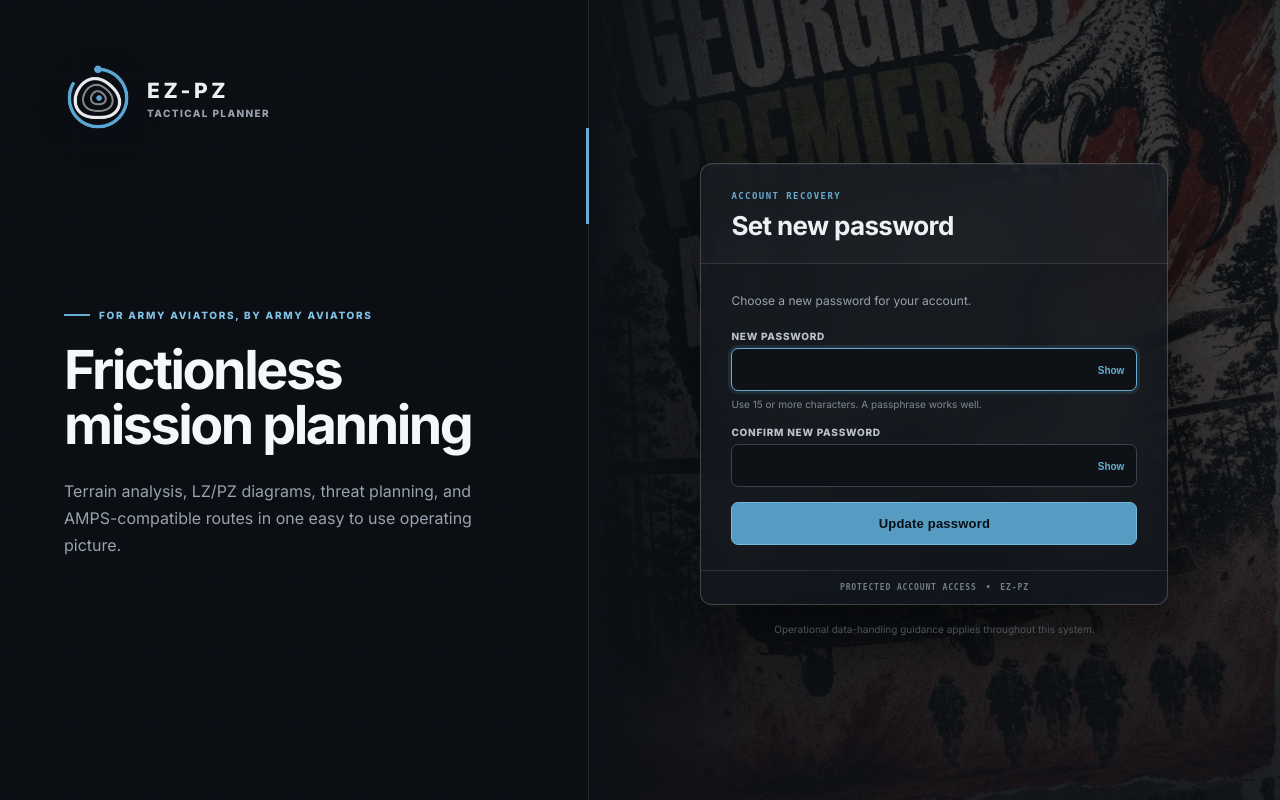
it: AuthScreen › successful password reset clears any existing local session
Type "another-secure-passphrase" into the password field labelled "New password" at [934, 370], box [731,348,1137,391]
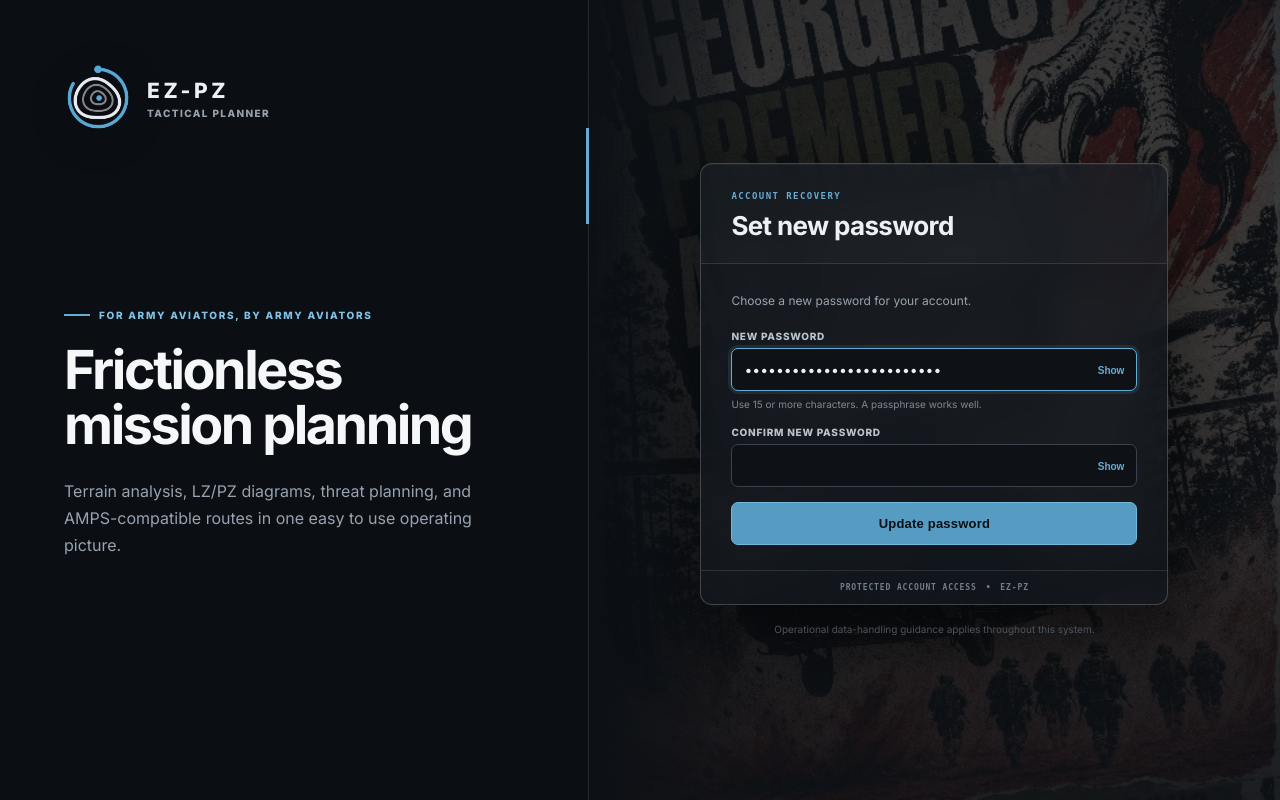
Type "another-secure-passphrase" into the password field labelled "Confirm new password" at [934, 466], box [731,444,1137,487]
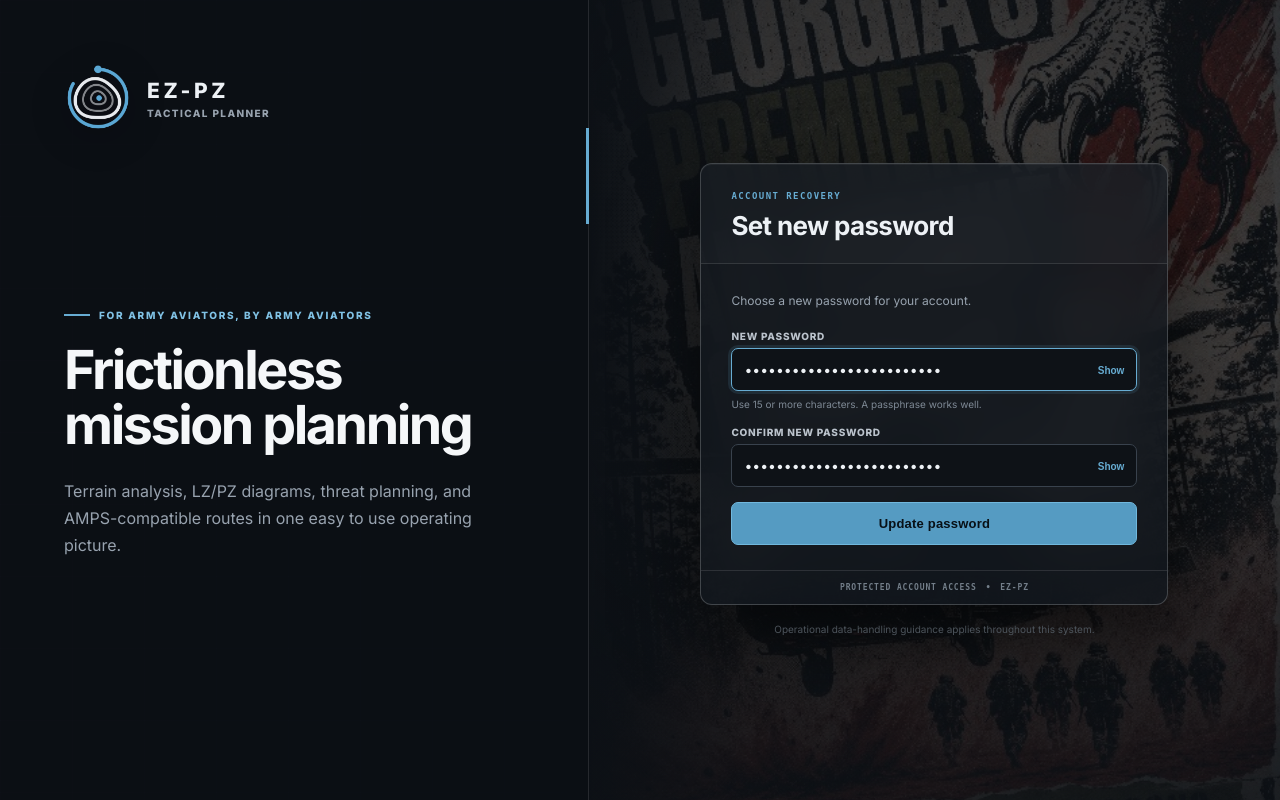
Click the button "Update password" at [934, 524], box [731,502,1137,545]
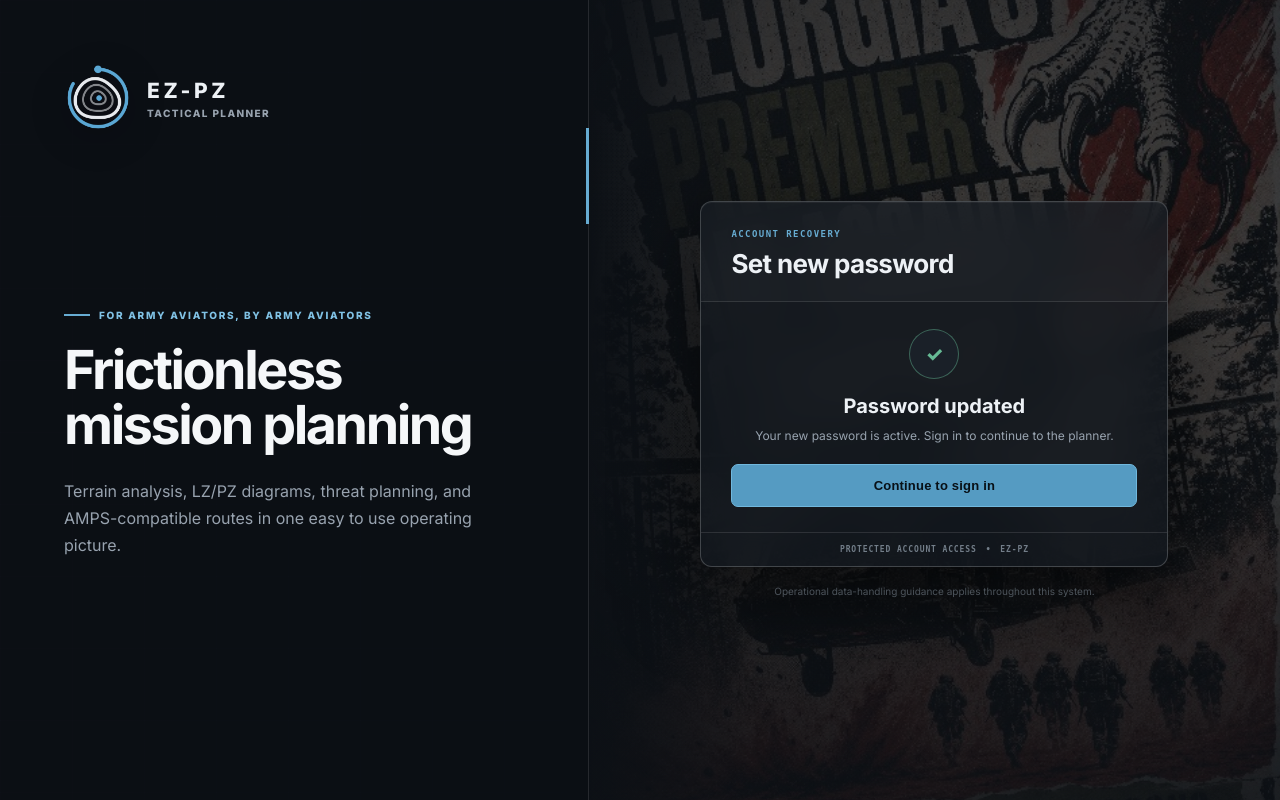
Expected: the heading "Password updated" is shown, [844,394,1025,418]
